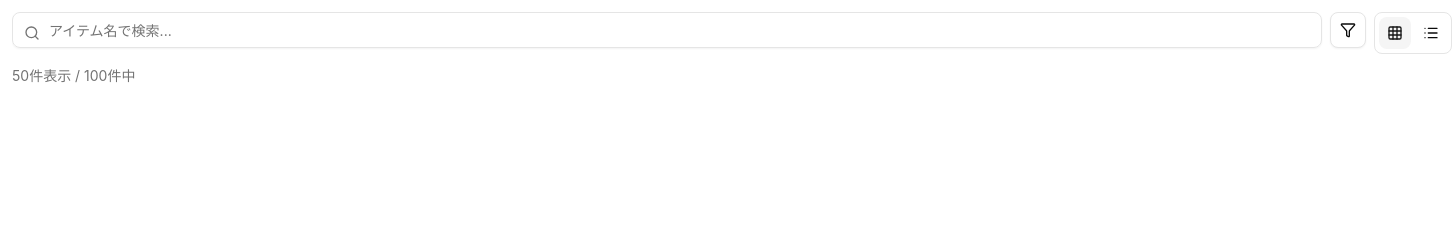
ItemGridFilters › フィルターパネル › フィルターボタンをクリックするとパネルが開くこと
Click the 1st button at (1348,30), box [1330, 12, 1366, 48]
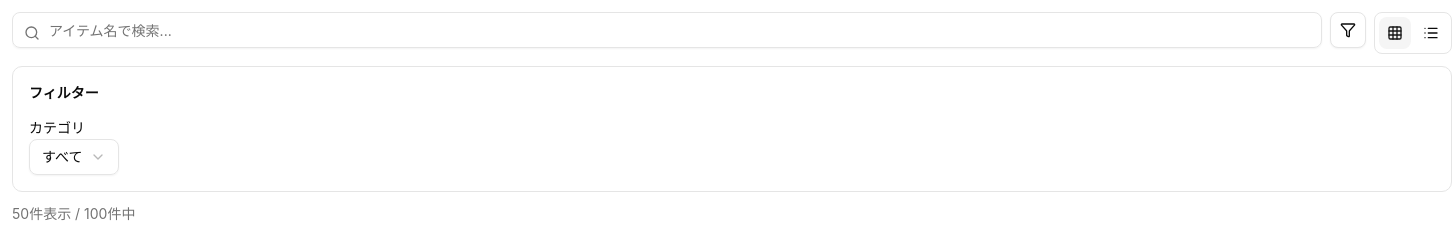
Check: the heading "フィルター" is shown, box [29, 83, 99, 103]
Check: the text "カテゴリ" is shown, box [29, 119, 85, 136]
